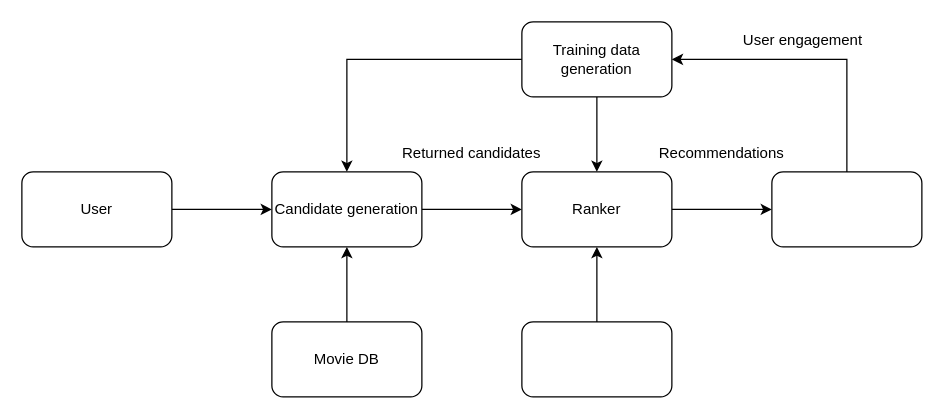
The diagram is 944 pixels wide and 419 high, and some of its shapes have lost their labels. The centre of each missing label's shape, as x and y in pixels:
Historical user interation: the point at 596,359
Netflix homepage: the point at 846,209
